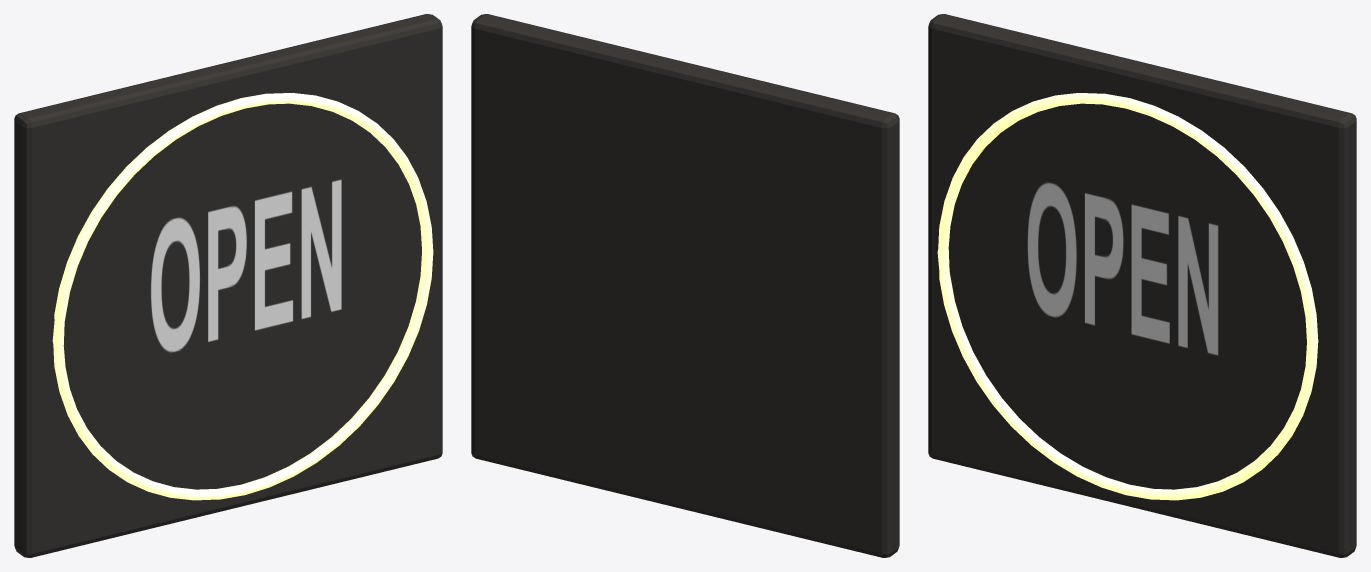
File: MS_AT_10_NeonCircle.glb
3 views of the same model, side by side, from view 1: azimuth 30°, elevation 25°; view 2: azimuth 150°, elevation 25°; view 3: azimuth 330°, elevation 25° (orthographic).
Parts seen in each view (by area): view 1: SignBacking.003, NeonTube.001, ReplaceableGraphic.001; view 2: SignBacking.003; view 3: SignBacking.003, NeonTube.001, ReplaceableGraphic.001.
Boxes of the visible parts, x1,y1,x2,y2 form: SignBacking.003: (14, 14, 442, 557); NeonTube.001: (52, 93, 433, 500); ReplaceableGraphic.001: (151, 179, 341, 352); SignBacking.003: (471, 14, 899, 557); SignBacking.003: (928, 14, 1356, 557); NeonTube.001: (937, 93, 1318, 500); ReplaceableGraphic.001: (1027, 182, 1218, 355).
Size of the model in its own units: 1 by 1 by 0.107.
3 materials, 1 textured.
